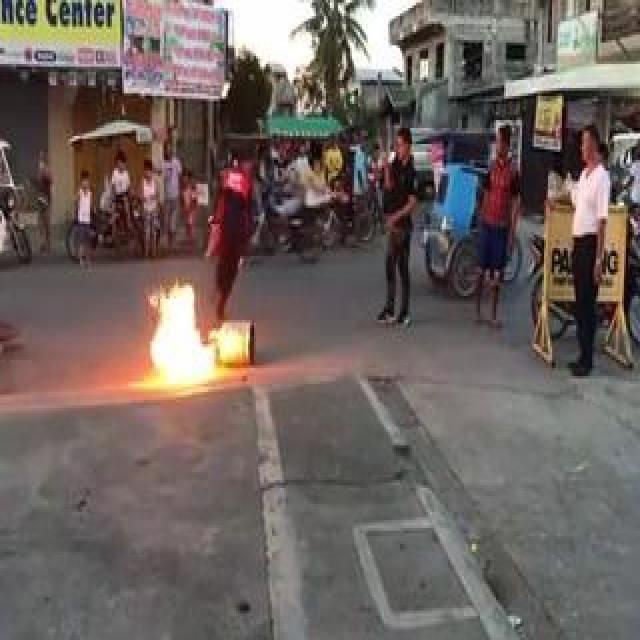Smoke: (82, 278, 154, 384)
